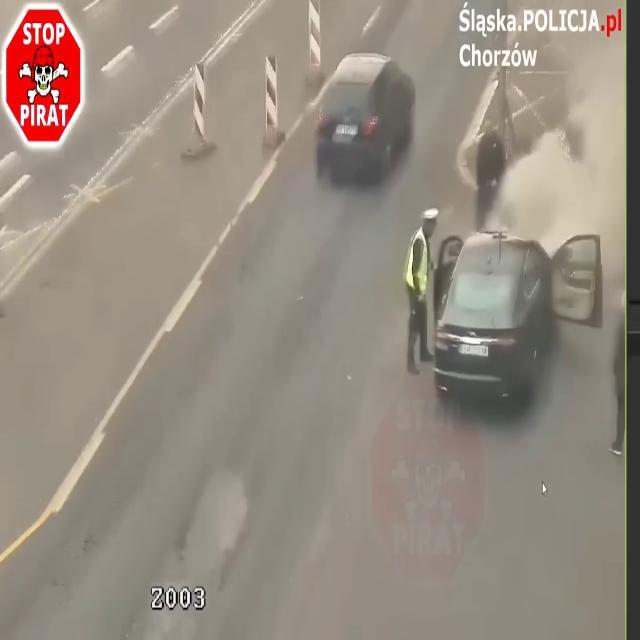Smoke: (402, 13, 626, 374)
